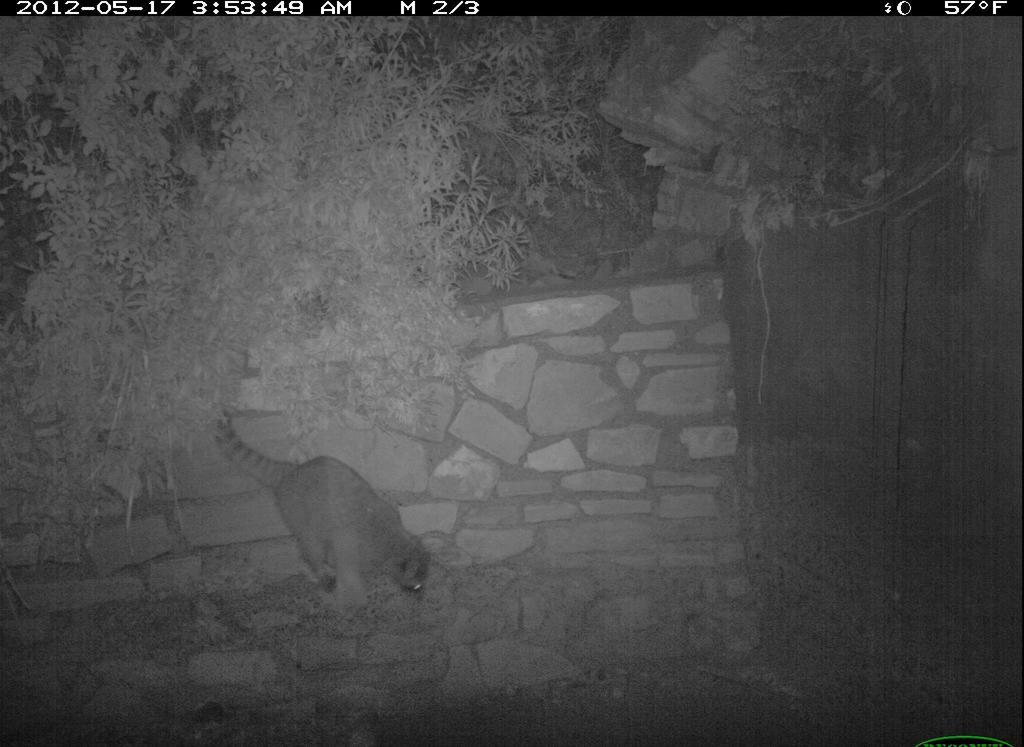raccoon: (209, 396, 466, 626)
